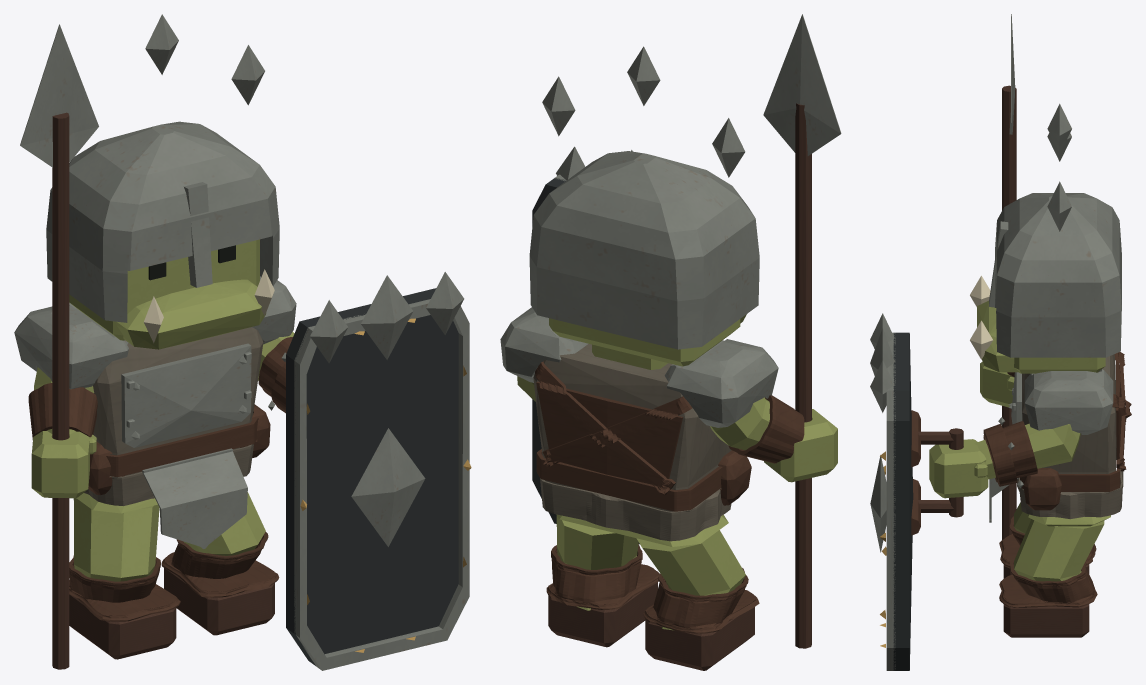
The model's file is host_14.glb.
The picture shows the model from 3 angles, left to right: view 1: azimuth 30°, elevation 25°; view 2: azimuth 150°, elevation 25°; view 3: azimuth 270°, elevation 25°; orthographic projection. The views are drawn at different scales.
Parts seen in each view (by area): view 1: LEFT actual source shield body, Actual hollow angular source helmet, LEFT source shield outer edge, One continuous source skull, Source actual riveted steel front chest, RIGHT source spear full actual handle, Source pointed steel waist tabard, Source connected torso mass, RIGHT source short joined leg, RIGHT thick diamond spear point, Source angular shoulder plate 1, Mirror shield source raised central diamond (+18 smaller); view 2: Actual hollow angular source helmet, Source connected torso mass, RIGHT source spear full actual handle, Source angular shoulder plate 1, Source faceted back plate, Source fitted ragged hem, RIGHT thick diamond spear point, RIGHT source short joined leg, LEFT source planted boot tall brown shin cuff, Source fitted outer waist belt, RIGHT source planted boot tall brown shin cuff, RIGHT source planted boot (+17 smaller); view 3: Actual hollow angular source helmet, LEFT actual source shield body, Source angular shoulder plate -1, LEFT source short joined leg, LEFT real compact source grasp source compact planar grasp, LEFT source planted boot tall brown shin cuff, LEFT source shield outer edge, LEFT source planted boot, Source connected torso mass, One continuous source skull, RIGHT source spear full actual handle, Source fitted ragged hem (+22 smaller).
Boxes of the visible parts, bbox=[...] form: LEFT actual source shield body: bbox=[286, 288, 458, 665]; Actual hollow angular source helmet: bbox=[46, 121, 279, 322]; LEFT source shield outer edge: bbox=[294, 299, 469, 670]; One continuous source skull: bbox=[69, 239, 266, 349]; Source actual riveted steel front chest: bbox=[121, 343, 251, 447]; RIGHT source spear full actual handle: bbox=[52, 112, 69, 669]; Source pointed steel waist tabard: bbox=[142, 448, 247, 548]; Source connected torso mass: bbox=[93, 327, 263, 475]; RIGHT source short joined leg: bbox=[73, 498, 159, 581]; RIGHT thick diamond spear point: bbox=[20, 24, 98, 167]; Source angular shoulder plate 1: bbox=[14, 303, 128, 389]; Mirror shield source raised central diamond: bbox=[351, 428, 425, 546]; Actual hollow angular source helmet: bbox=[529, 151, 759, 349]; Source connected torso mass: bbox=[533, 344, 731, 511]; RIGHT source spear full actual handle: bbox=[795, 103, 811, 648]; Source angular shoulder plate 1: bbox=[664, 339, 778, 427]; Source faceted back plate: bbox=[536, 381, 683, 484]; Source fitted ragged hem: bbox=[540, 478, 731, 541]; RIGHT thick diamond spear point: bbox=[763, 14, 841, 155]; RIGHT source short joined leg: bbox=[636, 530, 745, 630]; LEFT source planted boot tall brown shin cuff: bbox=[546, 544, 659, 609]; Source fitted outer waist belt: bbox=[536, 449, 722, 511]; RIGHT source planted boot tall brown shin cuff: bbox=[643, 568, 759, 633]; RIGHT source planted boot: bbox=[645, 607, 754, 670]; Actual hollow angular source helmet: bbox=[989, 193, 1121, 357]; LEFT actual source shield body: bbox=[893, 332, 913, 670]; Source angular shoulder plate -1: bbox=[1024, 369, 1113, 434]; LEFT source short joined leg: bbox=[1014, 519, 1104, 581]; LEFT real compact source grasp source compact planar grasp: bbox=[929, 439, 988, 498]; LEFT source planted boot tall brown shin cuff: bbox=[999, 559, 1097, 607]; LEFT source shield outer edge: bbox=[886, 332, 895, 670]; LEFT source planted boot: bbox=[1003, 604, 1089, 637]; Source connected torso mass: bbox=[1022, 354, 1116, 473]; One continuous source skull: bbox=[977, 300, 1105, 373]; RIGHT source spear full actual handle: bbox=[1002, 85, 1016, 539]; Source fitted ragged hem: bbox=[1017, 437, 1123, 519].
Bounding box in the file's own units: 1.4 × 2.31 × 1.02.
9 materials, 7 textured.
